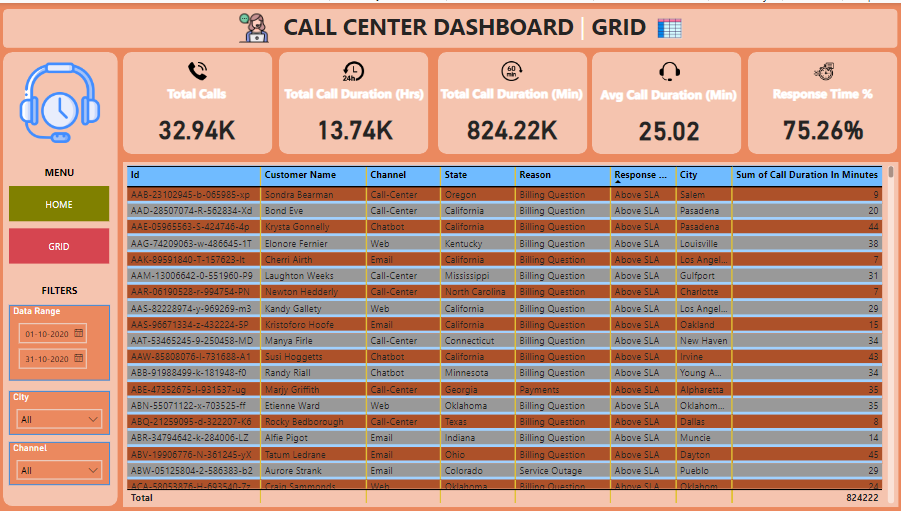

The dashboard page shown, as its layout file describes it:
{"tool":"powerbi","page":{"name":"GRID","canvas":[1280,720],"ordinal":1},"visuals":[{"type":"shape","box":[5.5,70,162.7,643.6],"z":0},{"type":"shape","box":[5.5,8.2,1268.2,55.5],"z":1000},{"type":"shape","box":[175.5,70,211.8,144.5],"z":2000},{"type":"shape","box":[397.3,70,211.8,144.5],"z":3000},{"type":"shape","box":[621.8,70,211.8,144.5],"z":4000},{"type":"shape","box":[840.9,70,211.8,144.5],"z":5000},{"type":"shape","box":[1061.8,70,211.8,144.5],"z":6000},{"type":"shape","box":[175.1,224.7,1099.1,489.2],"z":7000},{"type":"textbox","box":[397.6,6,578.8,59.5],"z":8000},{"type":"image","box":[336.3,10.5,50.9,50.9],"z":9000},{"type":"card","title":"Total Calls","fields":{"Values":["Call Center_Call Center.Total Calls"]},"box":[174.7,115.9,211.6,99.2],"z":10000},{"type":"card","title":"Total Call Duration (Hrs)","fields":{"Values":["Call Center_Call Center.Total Call Duration (Hrs)"]},"box":[398.1,116.1,211,98.6],"z":11000},{"type":"card","title":"Total Call Duration (Min)","fields":{"Values":["Call Center_Call Center.Total Call Duration (min)"]},"box":[615.6,116.1,223.9,98.6],"z":12000},{"type":"card","title":"Avg Call Duration (Min)","fields":{"Values":["Call Center_Call Center.AVG Call Duration (min)"]},"box":[837.7,117,223.9,98.6],"z":13000},{"type":"card","title":"Response Time %","fields":{"Values":["Call Center_Call Center.Response Time %"]},"box":[1056.3,116.8,223.9,98.3],"z":14000},{"type":"image","box":[259,76.4,43,40.4],"z":15000},{"type":"image","box":[481.2,76.4,44.8,40.4],"z":16000},{"type":"image","box":[707.7,76.4,39.5,40.4],"z":17000},{"type":"image","box":[930.7,76.4,38.6,40.4],"z":18000},{"type":"image","box":[1149.4,76.4,38.6,40.4],"z":19000},{"type":"slicer","title":"Data Range","fields":{"Values":["Date Table.Date"]},"box":[14.6,428,143,107],"z":20000},{"type":"slicer","title":"City","fields":{"Values":["Call Center_Call Center.City"]},"box":[14.6,549.5,143,62.2],"z":21000},{"type":"slicer","title":"Channel","fields":{"Values":["Call Center_Call Center.Channel"]},"box":[14.6,621.5,143,61.3],"z":22000},{"type":"pageNavigator","box":[14.6,258.7,143,110.9],"z":23000},{"type":"textbox","box":[14.6,224.7,143,49.6],"z":24000},{"type":"textbox","box":[14.6,392,143,49.6],"z":25000},{"type":"image","box":[21.4,79.8,130.3,124.5],"z":26000},{"type":"tableEx","fields":{"Values":["Call Center_Call Center.Id","Call Center_Call Center.Customer Name","Call Center_Call Center.Channel","Call Center_Call Center.State","Call Center_Call Center.Reason","Call Center_Call Center.Response Time","Call Center_Call Center.City","Sum(Call Center_Call Center.Call Duration In Minutes)"]},"box":[175.6,224.8,1097.6,489.1],"z":27000},{"type":"image","box":[925.5,12.3,50.9,46.5],"z":28000},{"type":"bookmarkNavigator","box":[0,40.4,599.7,50],"z":29000}]}

Visuals, with their boxes in screenshot pixels (x1, y1, x2, y2), scaled from the page's 1280x720 canvas onto the 901x511 screenshot:
shape: [4, 50, 118, 506]
shape: [4, 6, 897, 45]
shape: [124, 50, 273, 152]
shape: [280, 50, 429, 152]
shape: [438, 50, 587, 152]
shape: [592, 50, 741, 152]
shape: [747, 50, 896, 152]
shape: [123, 159, 897, 507]
textbox: [280, 4, 687, 46]
image: [237, 7, 273, 44]
"Total Calls" card: [123, 82, 272, 153]
"Total Call Duration (Hrs)" card: [280, 82, 429, 152]
"Total Call Duration (Min)" card: [433, 82, 591, 152]
"Avg Call Duration (Min)" card: [590, 83, 747, 153]
"Response Time %" card: [744, 83, 900, 153]
image: [182, 54, 213, 83]
image: [339, 54, 370, 83]
image: [498, 54, 526, 83]
image: [655, 54, 682, 83]
image: [809, 54, 836, 83]
"Data Range" slicer: [10, 304, 111, 380]
"City" slicer: [10, 390, 111, 434]
"Channel" slicer: [10, 441, 111, 485]
pageNavigator: [10, 184, 111, 262]
textbox: [10, 159, 111, 195]
textbox: [10, 278, 111, 313]
image: [15, 57, 107, 145]
tableEx - Call Center_Call Center.Id x Call Center_Call Center.Customer Name: [124, 160, 896, 507]
image: [651, 9, 687, 42]
bookmarkNavigator: [0, 29, 422, 64]
